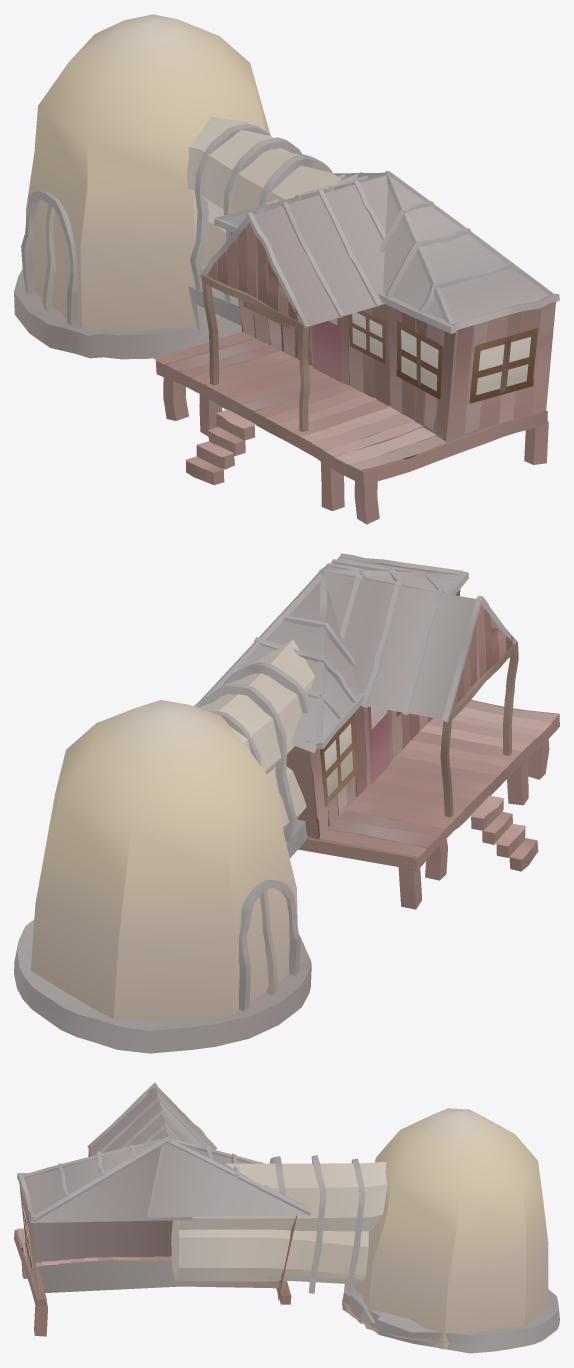
The picture shows the model from 3 angles, top to bottom: view 1: azimuth 30°, elevation 25°; view 2: azimuth 150°, elevation 25°; view 3: azimuth 270°, elevation 25°; orthographic projection. The views are drawn at different scales.
Parts seen in each view (by area): view 1: House_0000; view 2: House_0000; view 3: House_0000.
Part boxes in pixels (x1,y1,x2,y2): House_0000: [14, 14, 559, 524]; House_0000: [14, 553, 559, 1053]; House_0000: [14, 1082, 559, 1353].
Size of the model in its own units: 5.58 by 5.18 by 12.21.
